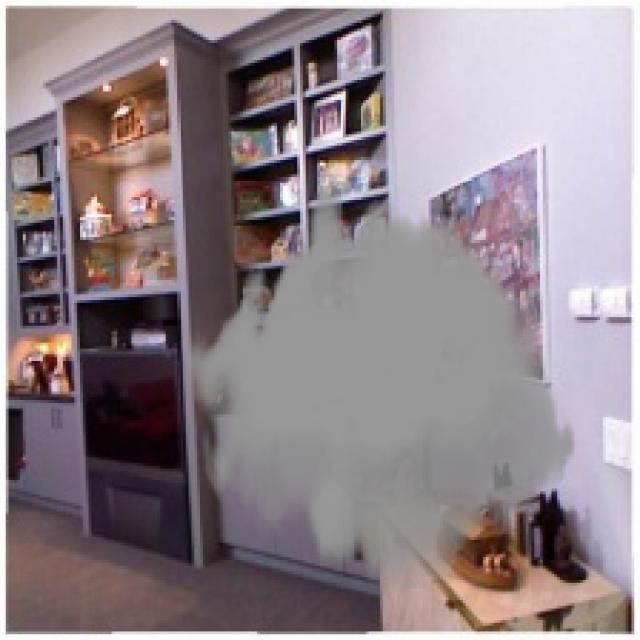smoke: (183, 186, 577, 588)
